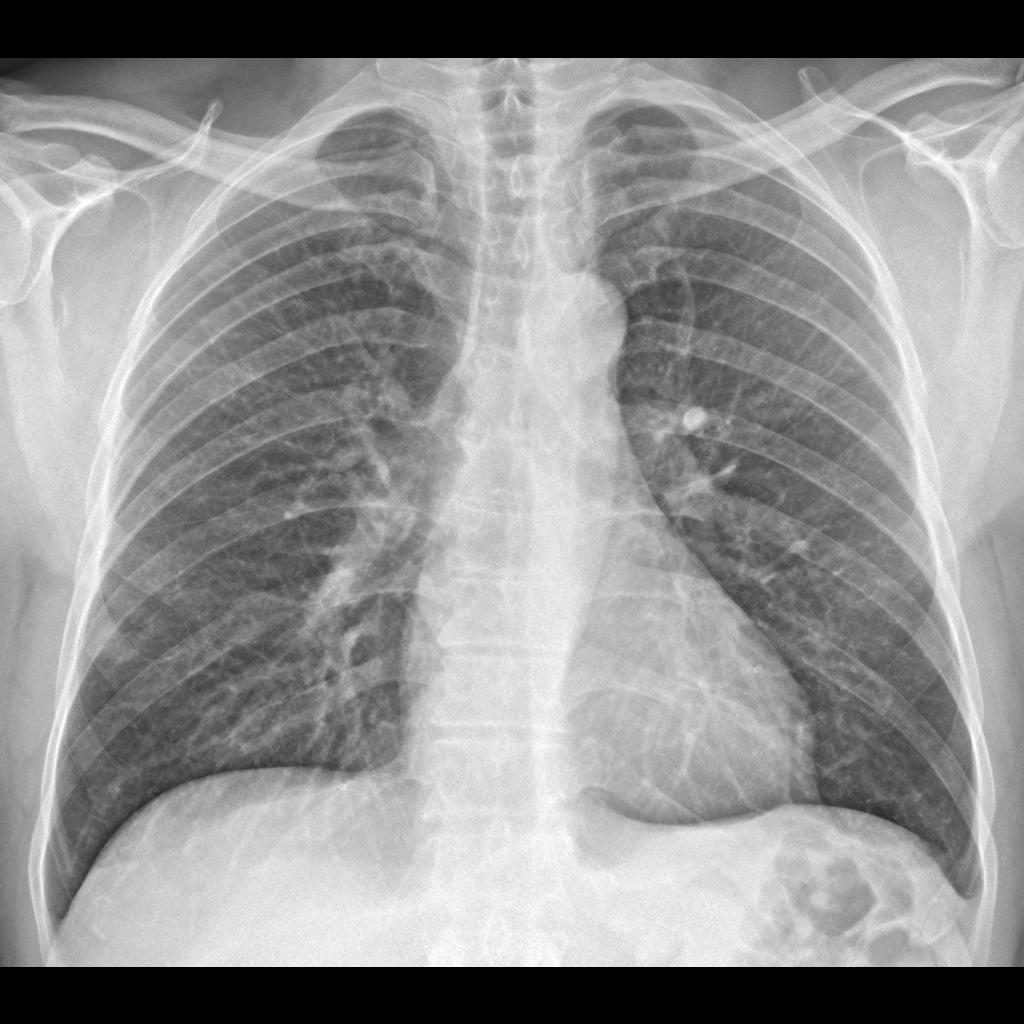Nodule: (91, 610, 135, 678)
